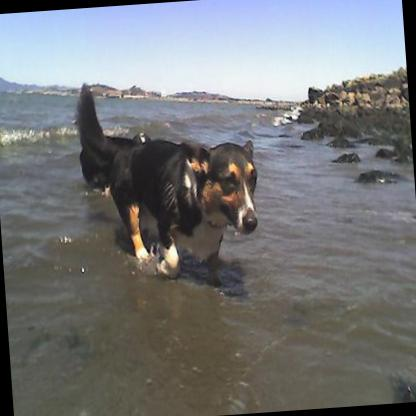Cardigan: (70, 67, 263, 286)
